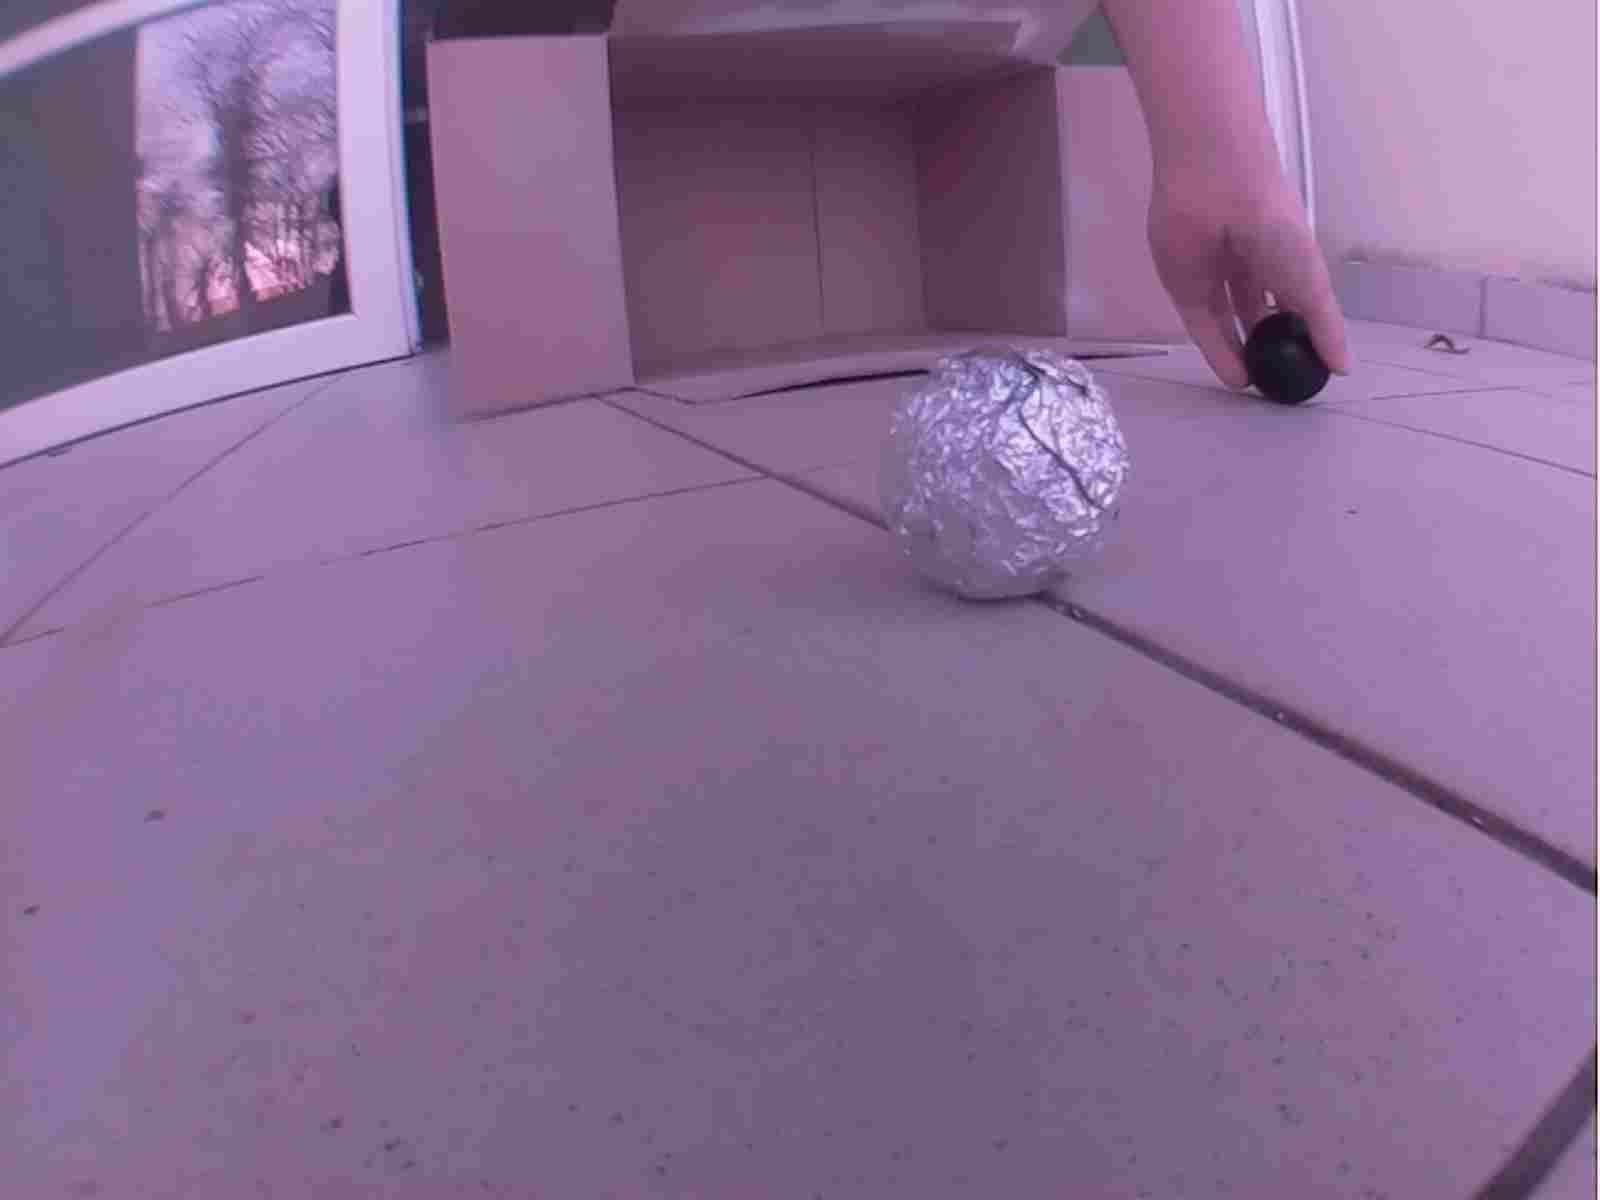bianca: (878, 342, 1128, 600)
nera: (1233, 309, 1335, 406)
